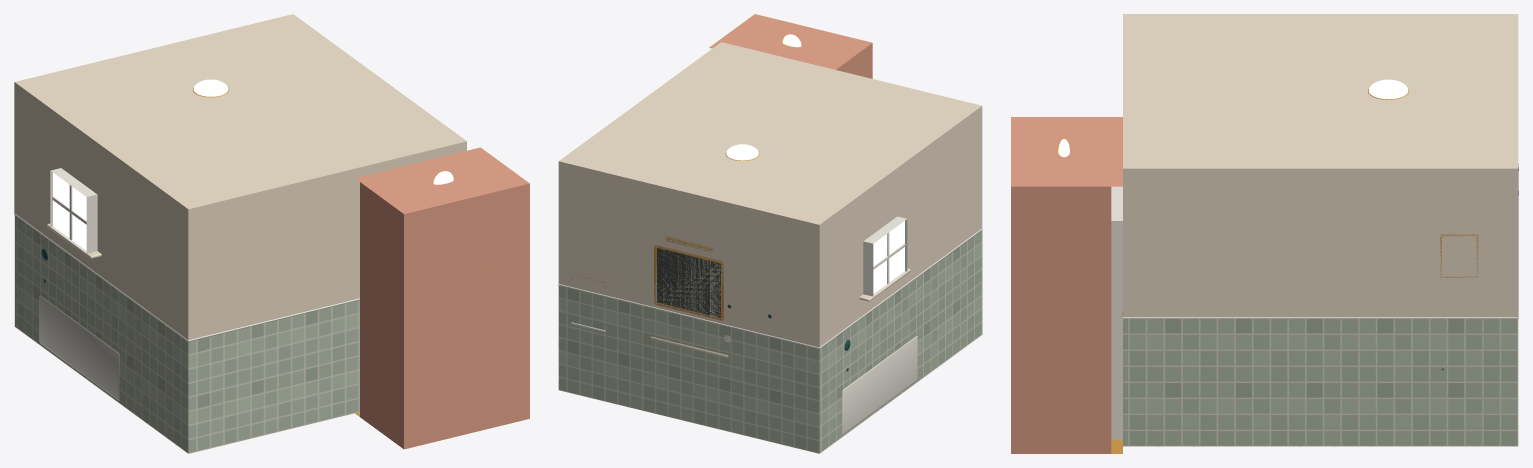
Rendered from bathroom_room.glb.
3 views of the same model, side by side, from view 1: azimuth 30°, elevation 25°; view 2: azimuth 150°, elevation 25°; view 3: azimuth 270°, elevation 25° (orthographic). The views are drawn at different scales.
Parts seen in each view (by area): view 1: Ceiling, HallEnd, FrontPaint2, FrontTile1, LeftPaint0, HallLeft, LeftTile0, HallCeiling, LeftPaint3, LeftTile2, TubShell, LeftTile1 (+4 smaller); view 2: Ceiling, BackPaint0, BackTile0, LeftPaint0, LeftTile0, LeftPaint3, HallCeiling, LeftTile2, MirrorBacking, TubShell, LeftTile1, LeftPaint2 (+6 smaller); view 3: Ceiling, RightPaint0, RightTile0, HallRight, HallCeiling, JambR, RightTrim0, LampDome.
Part boxes in pixels (x1,y1,x2,y2): Ceiling: (15, 14, 466, 209); HallEnd: (404, 183, 529, 449); FrontPaint2: (188, 162, 379, 339); FrontTile1: (188, 300, 359, 453); LeftPaint0: (97, 143, 188, 339); HallLeft: (360, 182, 403, 448); LeftTile0: (98, 276, 188, 452); HallCeiling: (355, 147, 529, 213); LeftPaint3: (14, 82, 61, 246); LeftTile2: (15, 215, 61, 360); TubShell: (39, 295, 119, 400); LeftTile1: (61, 249, 97, 386); Ceiling: (559, 42, 981, 224); BackPaint0: (558, 161, 819, 347); BackTile0: (558, 285, 819, 453); LeftPaint0: (897, 106, 982, 290); LeftTile0: (897, 230, 981, 396); LeftPaint3: (819, 193, 863, 346); HallCeiling: (709, 14, 872, 69); LeftTile2: (819, 317, 862, 452); MirrorBacking: (657, 248, 720, 317); TubShell: (842, 336, 917, 434); LeftTile1: (863, 292, 896, 421); LeftPaint2: (863, 168, 897, 240); Ceiling: (1123, 14, 1518, 168); RightPaint0: (1123, 168, 1518, 317); RightTile0: (1123, 319, 1518, 446); HallRight: (1011, 186, 1111, 453); HallCeiling: (1011, 117, 1122, 186); JambR: (1111, 221, 1122, 439); RightTrim0: (1123, 317, 1518, 318); LampDome: (1368, 79, 1408, 99).
Bounding box in the file's own units: 3.37 × 2.73 × 4.31.
Materials: 45 (9 with a texture image).
